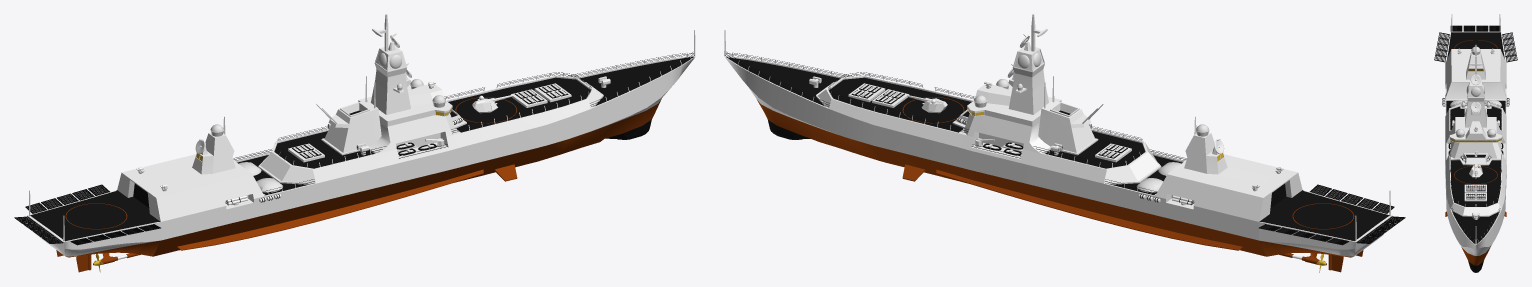
Rendered from BengaluruClass.fbx.
3 renders of one model, left to right at view 1: azimuth 30°, elevation 25°; view 2: azimuth 150°, elevation 25°; view 3: azimuth 270°, elevation 25°, orthographic. The views are drawn at different scales.
Visible parts, largest first — view 1: Hull, Cube.001, FlightMesh_1, Railing.004, Railing.002, Capaciters, FlightMesh_1.001, VLS_1.002, VLS_1, VLS_1.001; view 2: Hull, Cube.001, FlightMesh_1, Railing.004, Railing.002, Capaciters, FlightMesh_1.001, VLS_1.002, VLS_1.001, VLS_1; view 3: Hull, FlightMesh_1, FlightMesh_1.001, Railing.004, VLS_1, VLS_1.001, Railing.002, Capaciters, DRDO KJ1800 Railgun, Radar.005, RadarDish_2, RadarDish_2.002 (+5 smaller).
Part boxes in pixels (x1,y1,x2,y2): Hull: (27, 14, 695, 257); Cube.001: (177, 169, 483, 250); FlightMesh_1: (25, 184, 160, 245); Railing.004: (444, 72, 591, 133); Railing.002: (568, 52, 694, 106); Capaciters: (238, 162, 282, 192); FlightMesh_1.001: (14, 216, 63, 243); VLS_1.002: (288, 143, 324, 162); VLS_1: (510, 89, 547, 107); VLS_1.001: (534, 83, 571, 102); Hull: (724, 14, 1392, 257); Cube.001: (936, 169, 1242, 250); FlightMesh_1: (1259, 184, 1394, 245); Railing.004: (828, 72, 974, 133); Railing.002: (725, 51, 853, 106); Capaciters: (1136, 162, 1180, 192); FlightMesh_1.001: (1356, 216, 1405, 243); VLS_1.002: (1095, 143, 1131, 162); VLS_1.001: (848, 83, 885, 102); VLS_1: (872, 89, 909, 107); Hull: (1445, 31, 1506, 272); FlightMesh_1: (1434, 32, 1517, 62); FlightMesh_1.001: (1450, 25, 1500, 31); Railing.004: (1450, 154, 1501, 206); VLS_1: (1464, 184, 1486, 192); VLS_1.001: (1464, 193, 1486, 201); Railing.002: (1451, 208, 1500, 242); Capaciters: (1450, 100, 1501, 107); DRDO KJ1800 Railgun: (1469, 164, 1482, 178); Radar.005: (1455, 129, 1496, 137); RadarDish_2: (1470, 102, 1481, 112); RadarDish_2.002: (1470, 74, 1481, 84).
Bounding box in the file's own units: 549 × 144 × 85.03.
